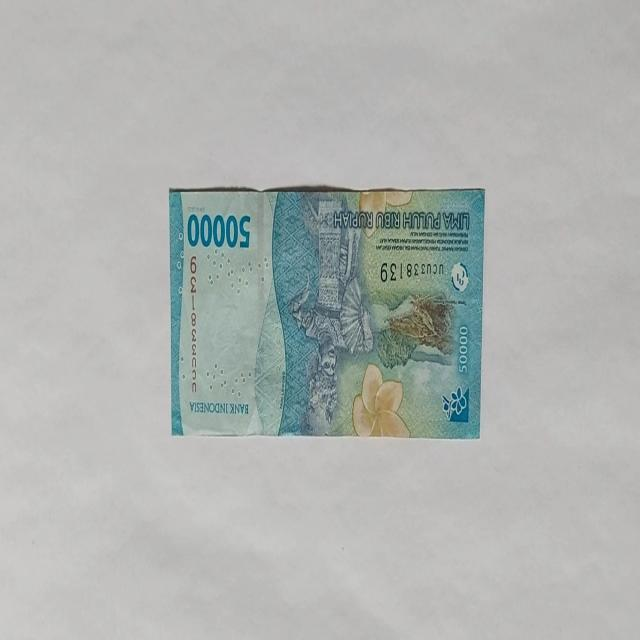lima puluh ribu rupiah: (168, 184, 486, 439), (186, 210, 252, 250)
